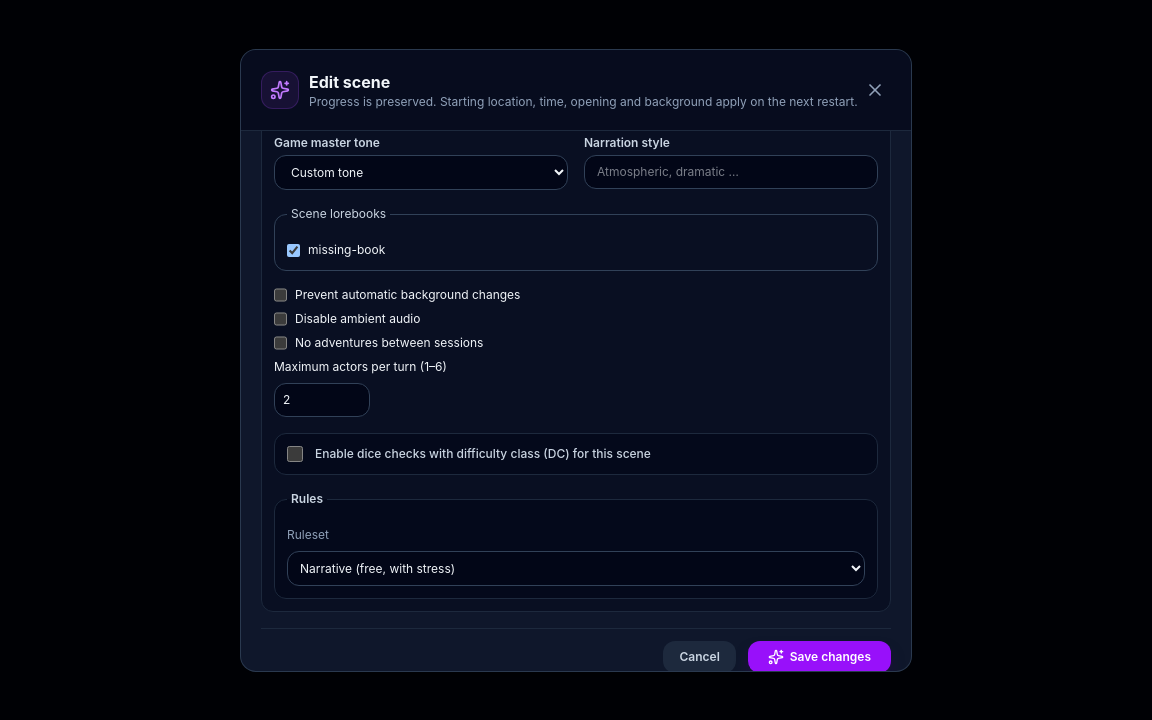
Test: SceneCreateModal › edits settings, preserves missing bindings and displays save errors without losing the draft
(page scrolled)
Check: the checkbox labelled "missing-book" is checked, box [287,244,300,257]
Replace the text in the number field labelled "Maximum actors per turn (1–6)" with "4" at (322, 400), box [274,384,370,418]
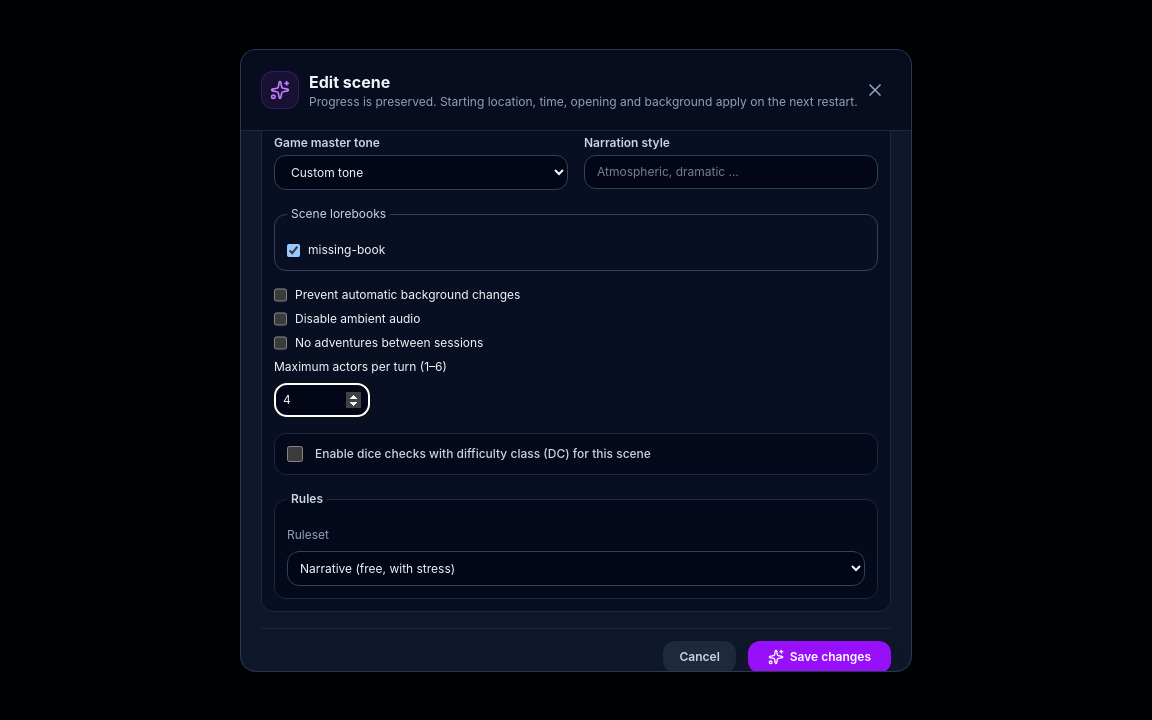
Click the button "Save changes" at (819, 658), box [748,642,891,674]
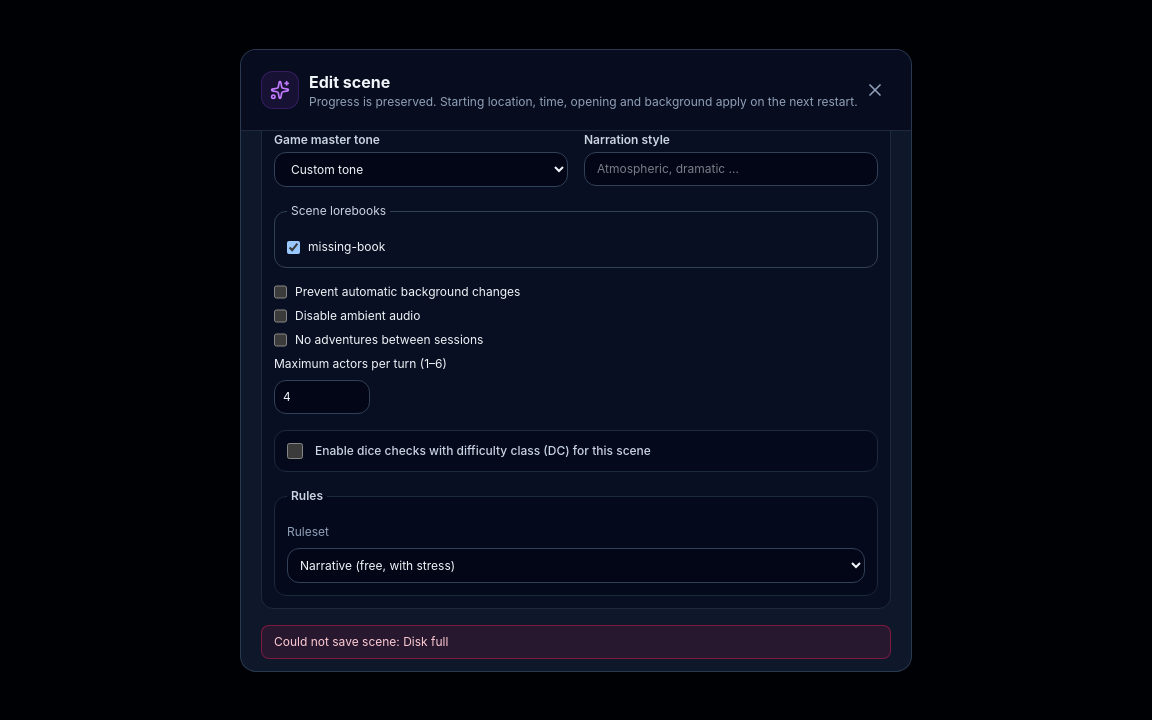
Check: the message shows "Disk full", box [274,634,448,650]
